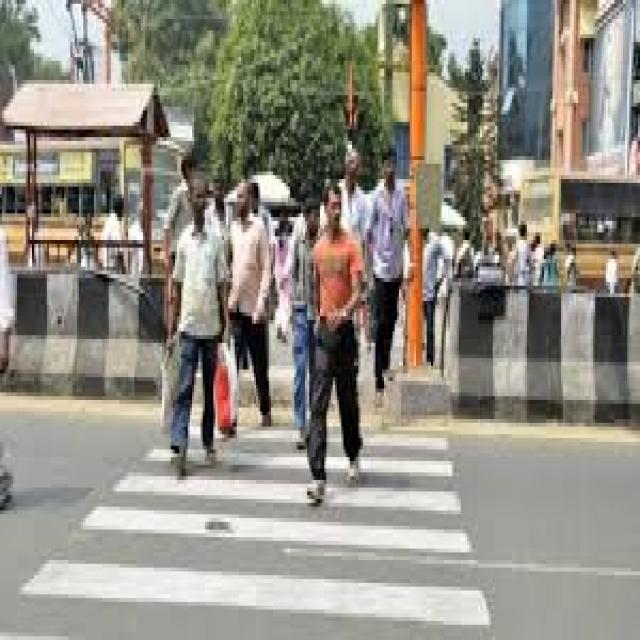zebra crossing ahead at: (0, 466, 495, 640)
